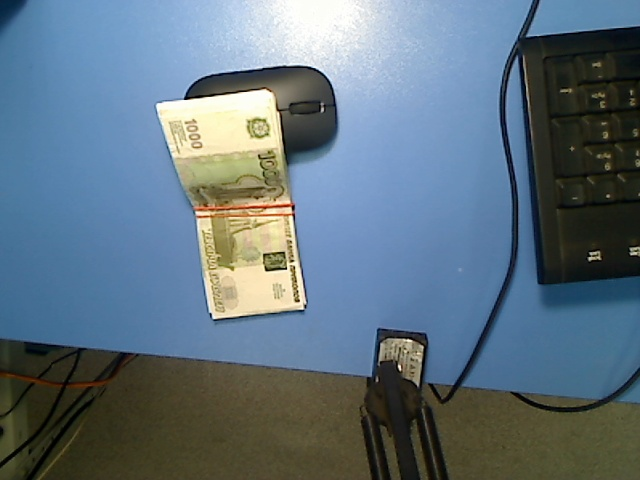banknotes: (154, 88, 308, 322)
